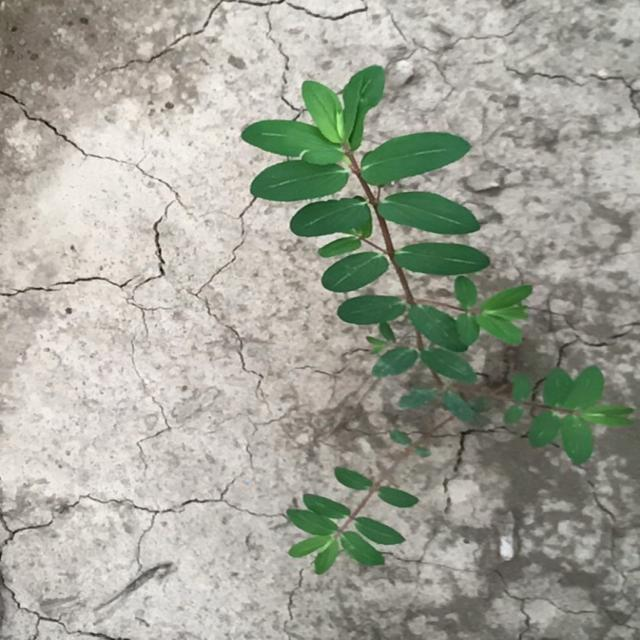SpottedSpurge: (241, 64, 635, 575)
